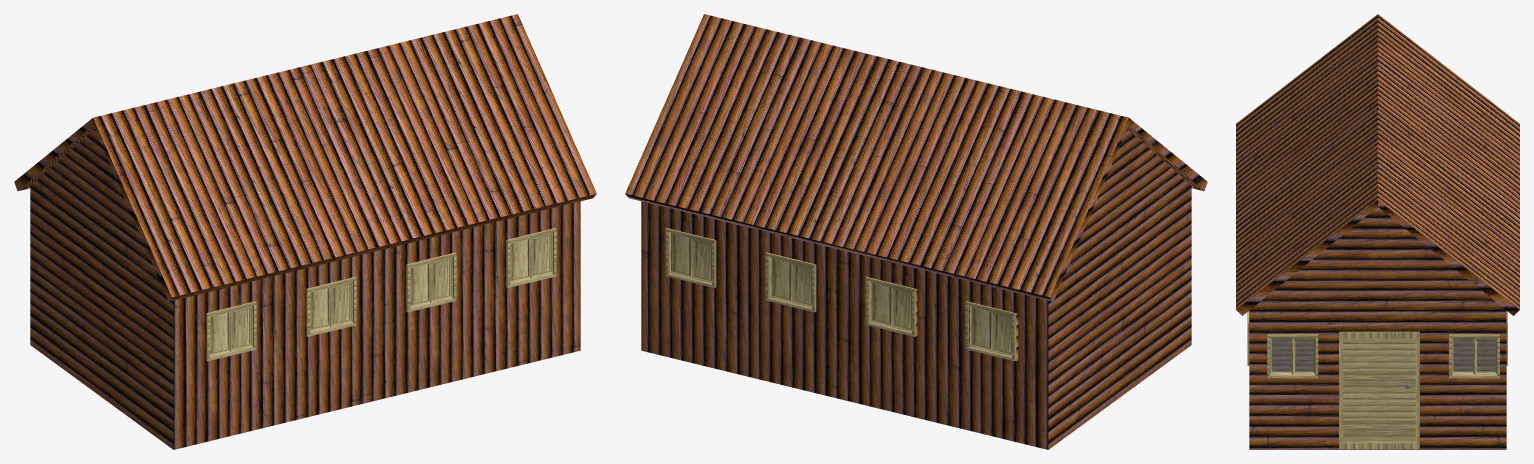
Rendered from wooden_cottage_house_psx.glb.
3 views of the same model, side by side, from view 1: azimuth 30°, elevation 25°; view 2: azimuth 150°, elevation 25°; view 3: azimuth 270°, elevation 25° (orthographic). The views are drawn at different scales.
Visible parts, largest first — view 1: pCube44; view 2: pCube44; view 3: pCube44, pCube11.
Boxes of the visible parts, x1=… form: pCube44: x1=14, y1=14, x2=596, y2=449; pCube44: x1=625, y1=14, x2=1207, y2=449; pCube44: x1=1236, y1=14, x2=1519, y2=449; pCube11: x1=1343, y1=338, x2=1415, y2=441.
Size of the model in its own units: 0.2369 by 0.1503 by 0.1524.
4 materials, 4 textured.
